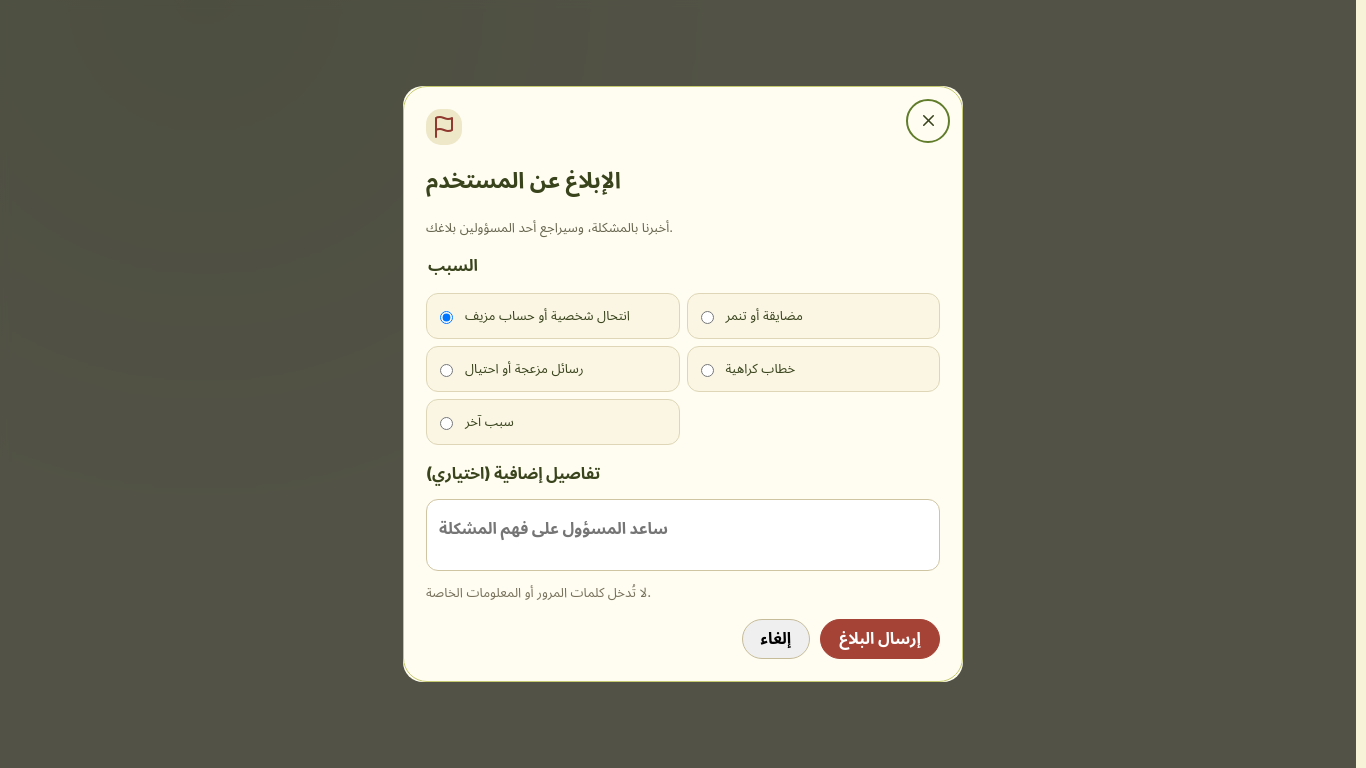
Scenario: report reasons and required details › localizes required details and user reasons in Arabic
Expected: the radio button labelled "انتحال شخصية أو حساب مزيف" is shown, top-left (440, 311), bottom-right (453, 324)
Click the radio button labelled "سبب آخر" at (446, 424), box top-left (440, 417), bottom-right (453, 430)
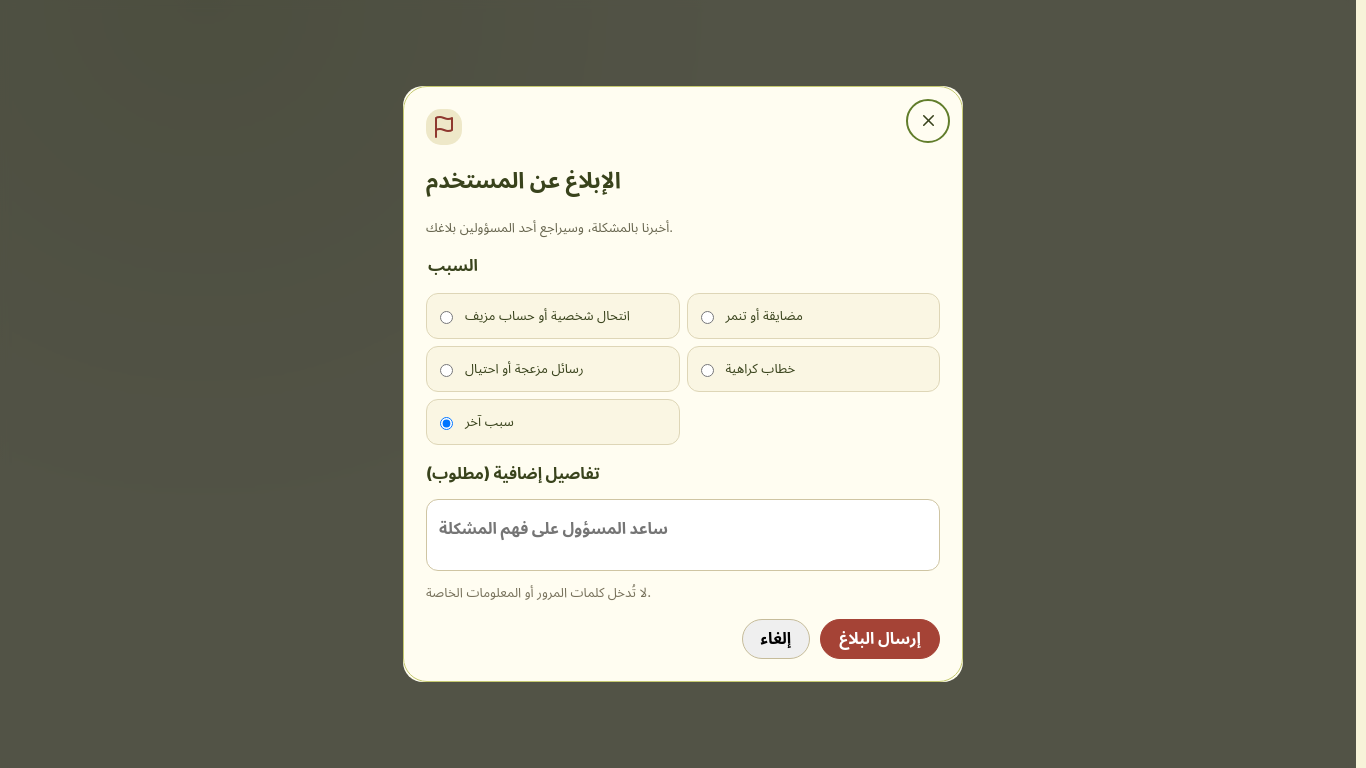
Result: the text "تفاصيل إضافية (مطلوب)" is shown at top-left (426, 463), bottom-right (600, 483)
